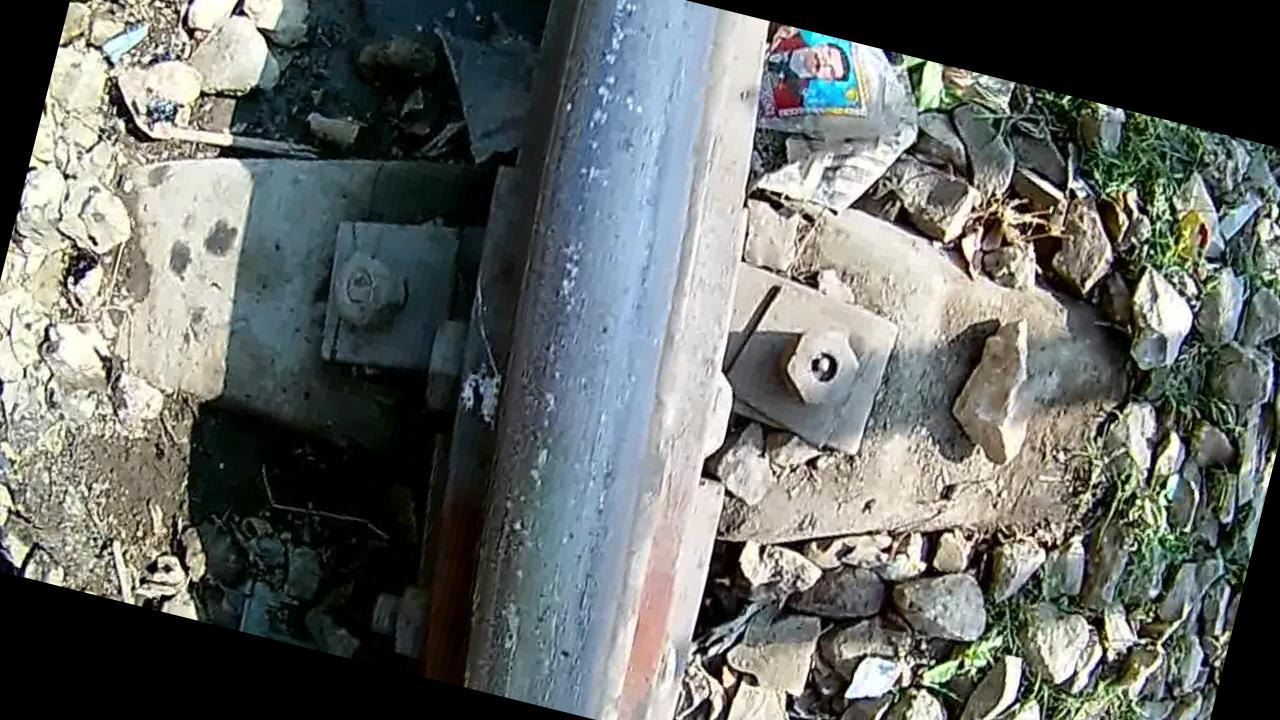clip_missing: (407, 0, 777, 720)
